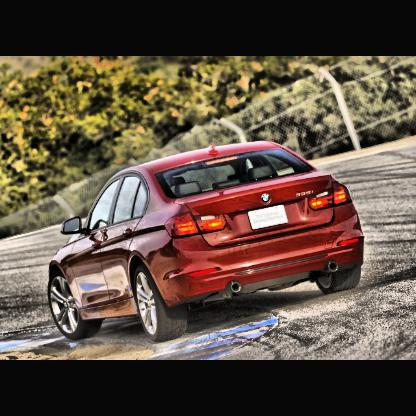BMW 3 Series Sedan 2012: (49, 140, 367, 344)
